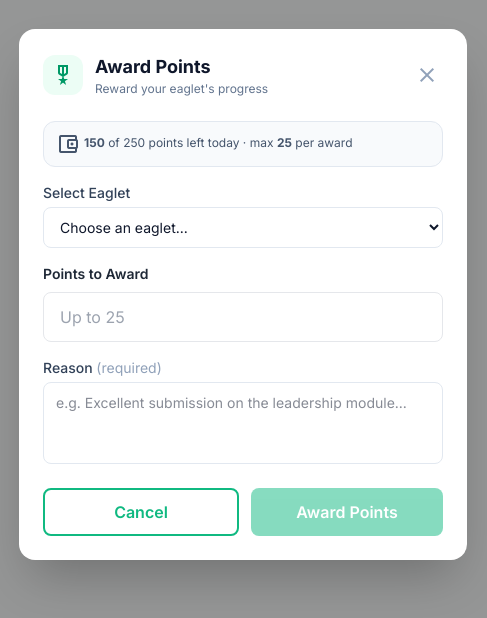
Test: AwardPointsModal — policy budget (31-02) › rejects an amount above the live ceiling, citing the policy value
Select "Ama Mensah" in the dropdown: x=243, y=227 [43,206,443,248]
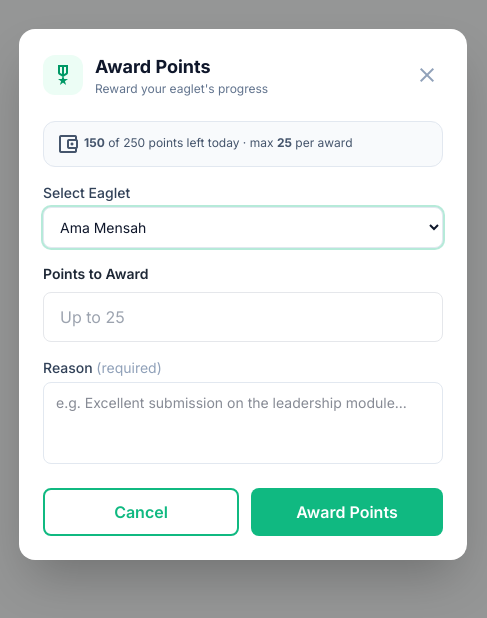
In the number field labelled "Points to Award": x=243, y=316 [43,292,443,342], type "26"
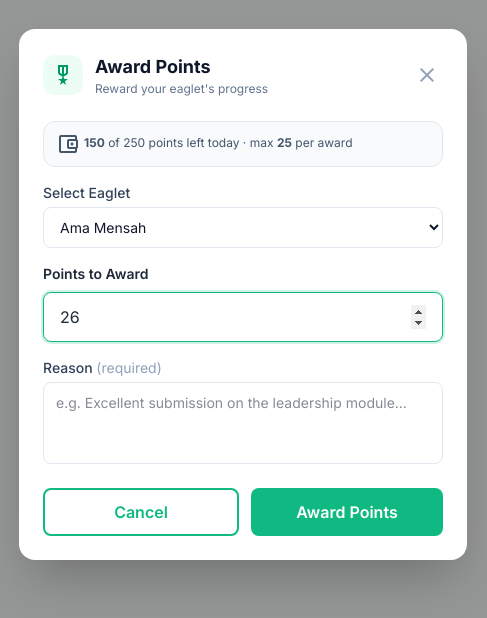
In the text box with placeholder "e.g. Excellent submission on the leadership module...": x=243, y=422 [43,382,443,464], type "Good work this week"
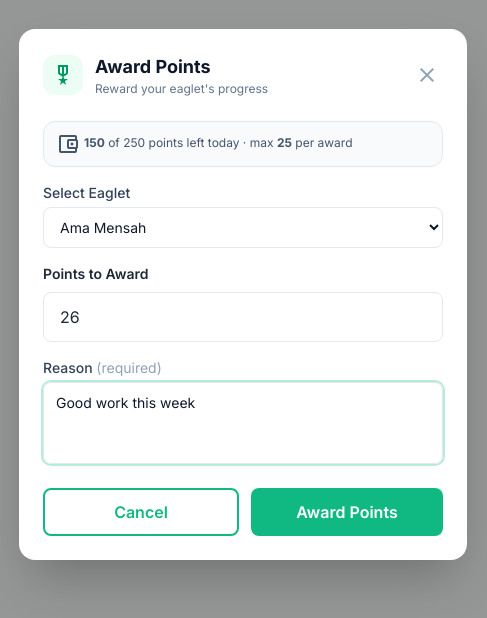
Click the button "Award Points": x=347, y=512 [251,488,443,536]
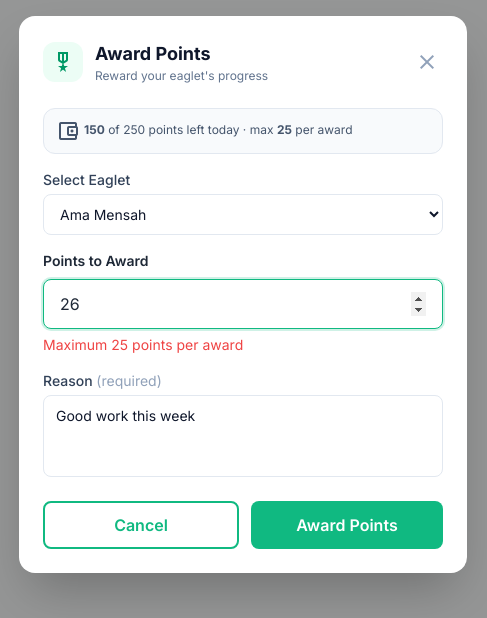
Expected: the text "Maximum 25 points per award" is shown, [43,336,243,352]
